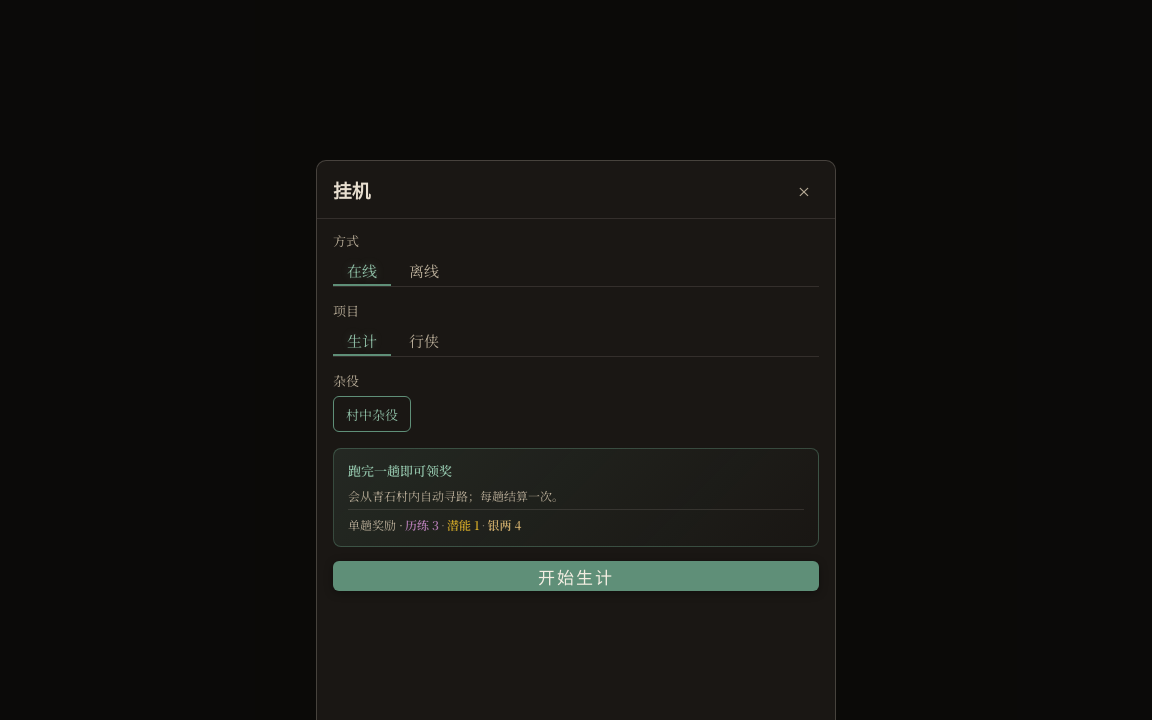
Scenario: AfkSheet（挂机启动） › 尚无武功时提示先请教，且不可安排
This screenshot has width=1152, height=720.
What coordinates should you click on to do the following:
click the button "离线"
I would click on:
 (424, 271)
Its box is [395,256,453,286].
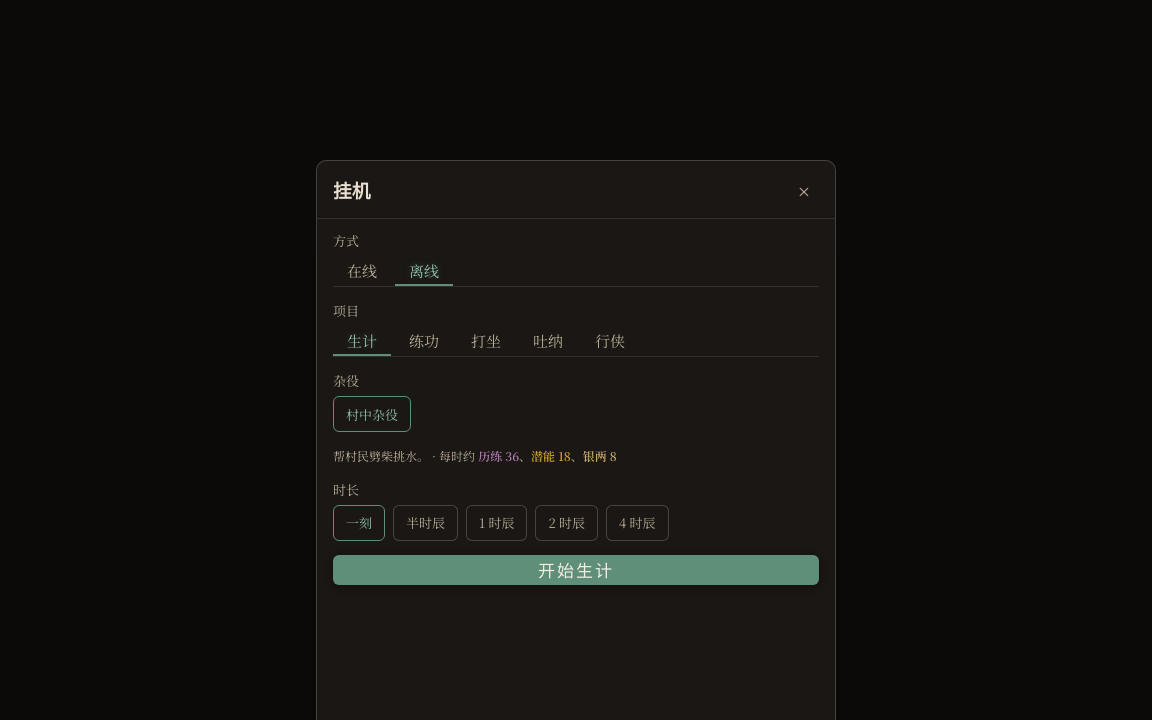
What coordinates should you click on to do the following:
click the button "练功"
I would click on:
 (424, 341)
Its box is [395,326,453,356].
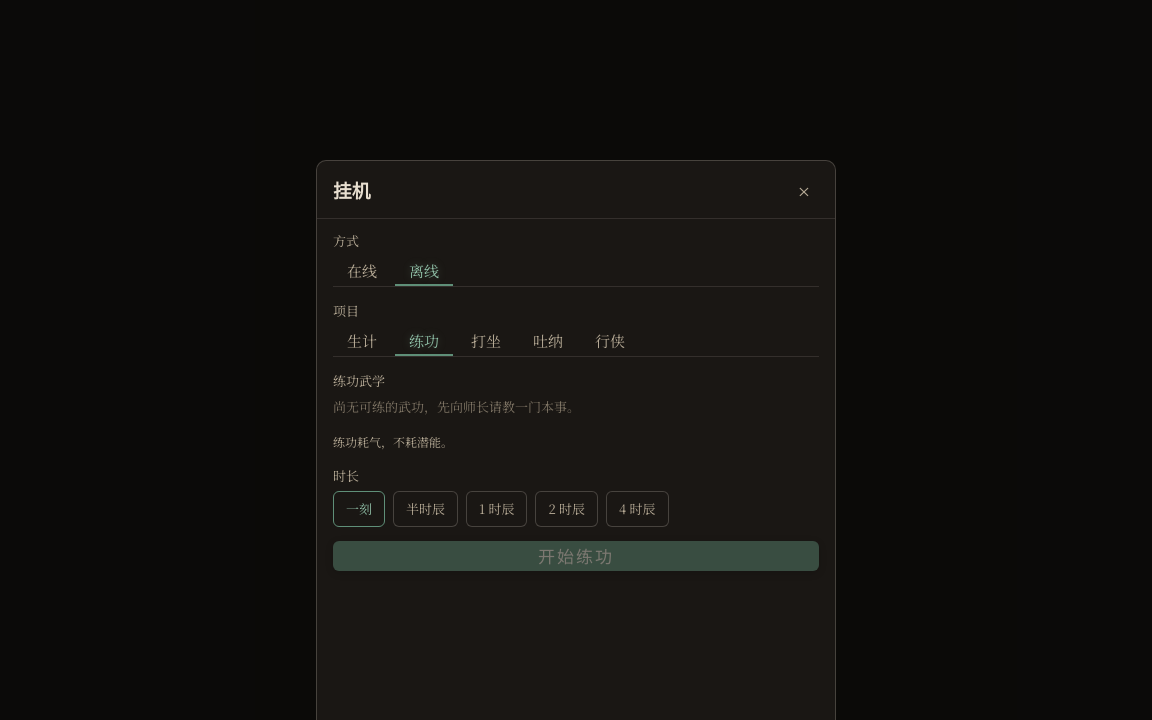
Now the text "先向师长请教" is shown, box [333,397,580,416]
Now the button "开始练功" is disabled, box [333,541,819,571]
